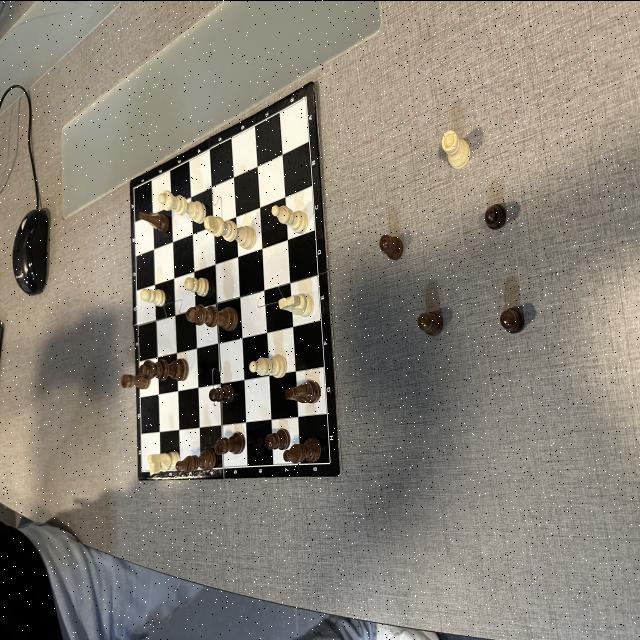Black-Bishop: (282, 436, 322, 464), (176, 448, 216, 472), (282, 463, 284, 465)
Black-King: (186, 302, 238, 330)
Black-Knight: (284, 378, 322, 402), (138, 210, 170, 232)
Black-Pawn: (379, 232, 404, 260), (418, 310, 443, 336), (500, 306, 524, 333), (264, 426, 290, 449), (484, 203, 506, 230), (208, 383, 234, 403)
Black-Queen: (138, 356, 190, 381)
Black-Rook: (214, 430, 246, 454), (120, 373, 150, 389)
White-Bishop: (271, 203, 308, 233), (249, 353, 287, 377)
White-King: (204, 214, 257, 249)
White-Knight: (278, 292, 314, 316), (146, 449, 176, 474)
White-Pawn: (183, 276, 210, 296), (140, 287, 166, 306)
White-Queen: (158, 189, 206, 223)
White-Rook: (441, 129, 471, 169)
